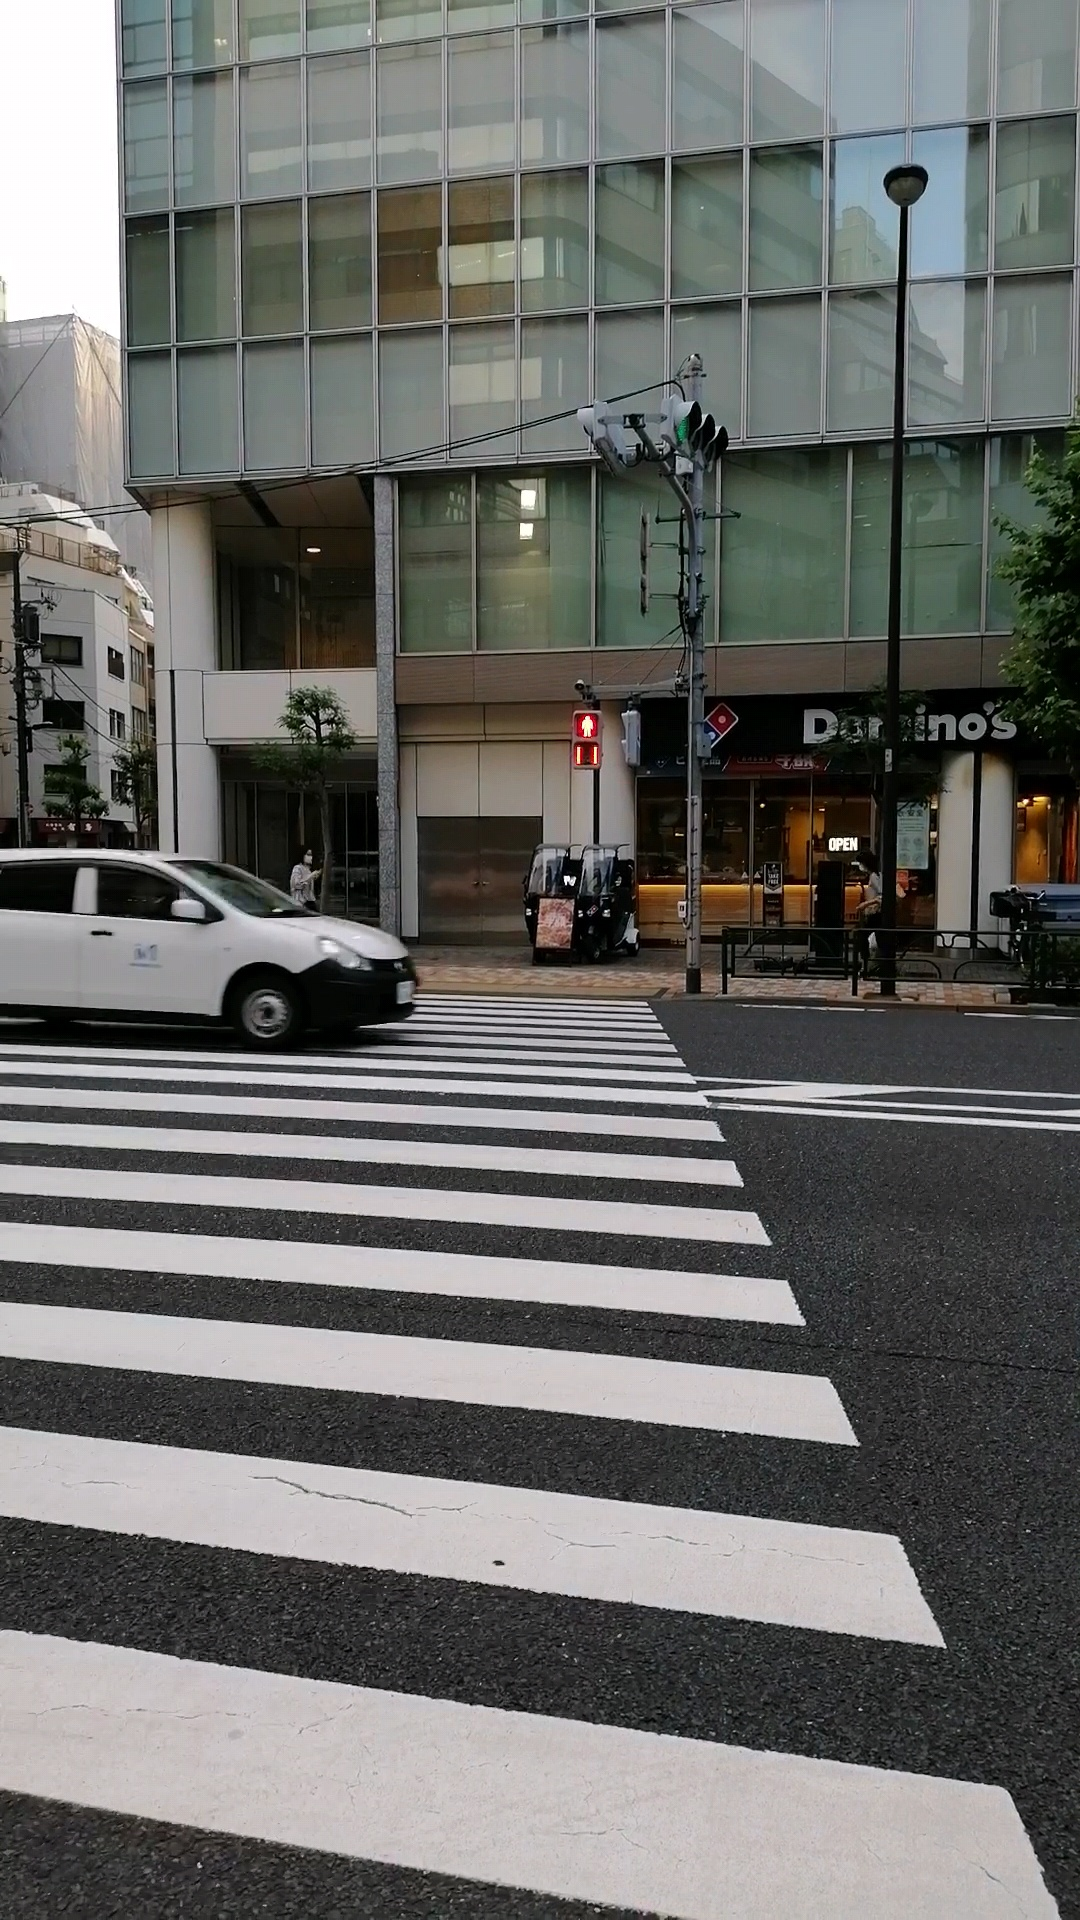red: (570, 709, 604, 770)
